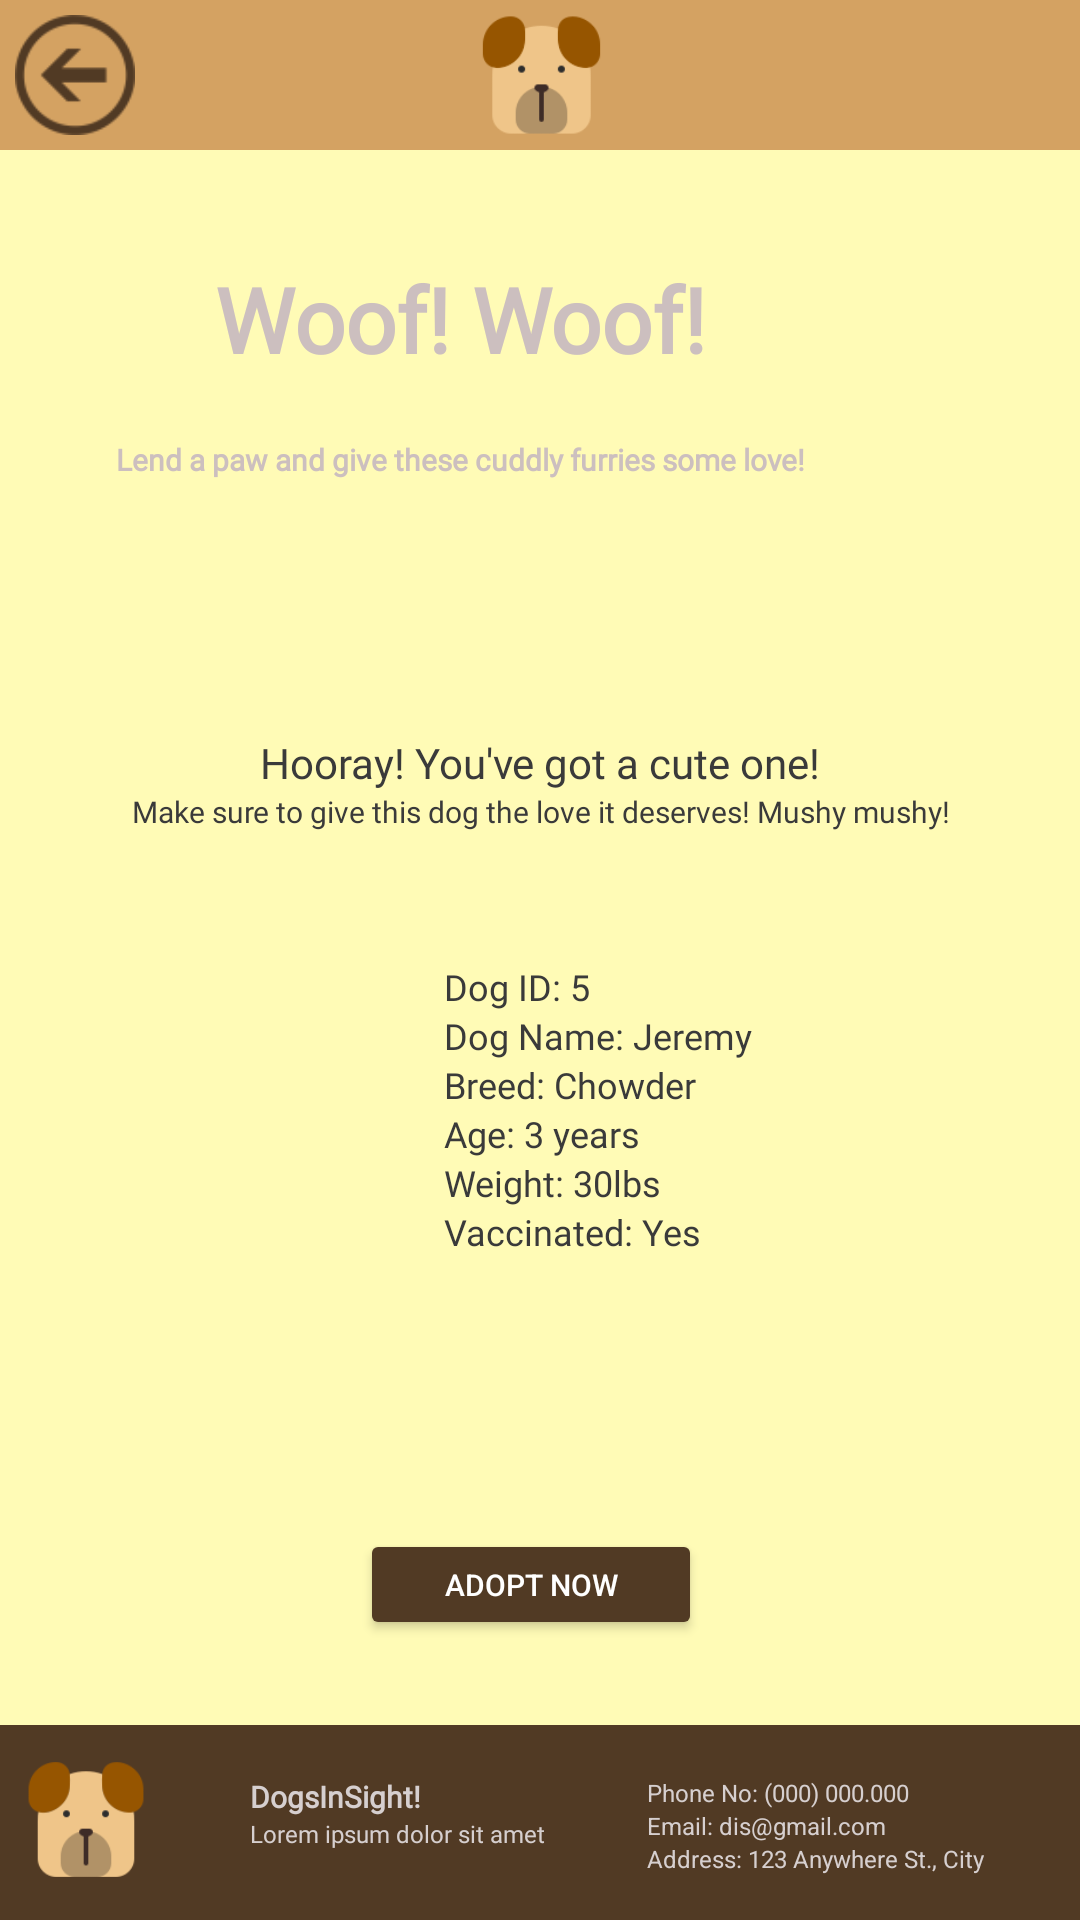

Icon bounding boxes for this 1080×1920 phone screenshot, format (x1, y1, x2, y2):
back: (15, 15, 135, 135)
